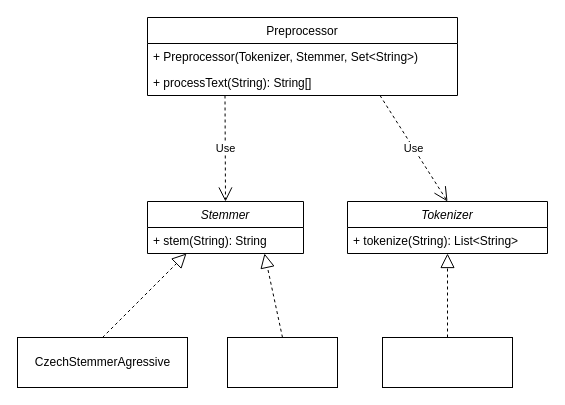
Image size: 565x405. Some labels were removed from this diagram. Here are the shapes that lost their labels. From the top down, the box of each, then its label:
(226, 336, 338, 388): EnglishStemmer
(382, 336, 512, 388): AdvancedTokenizer
